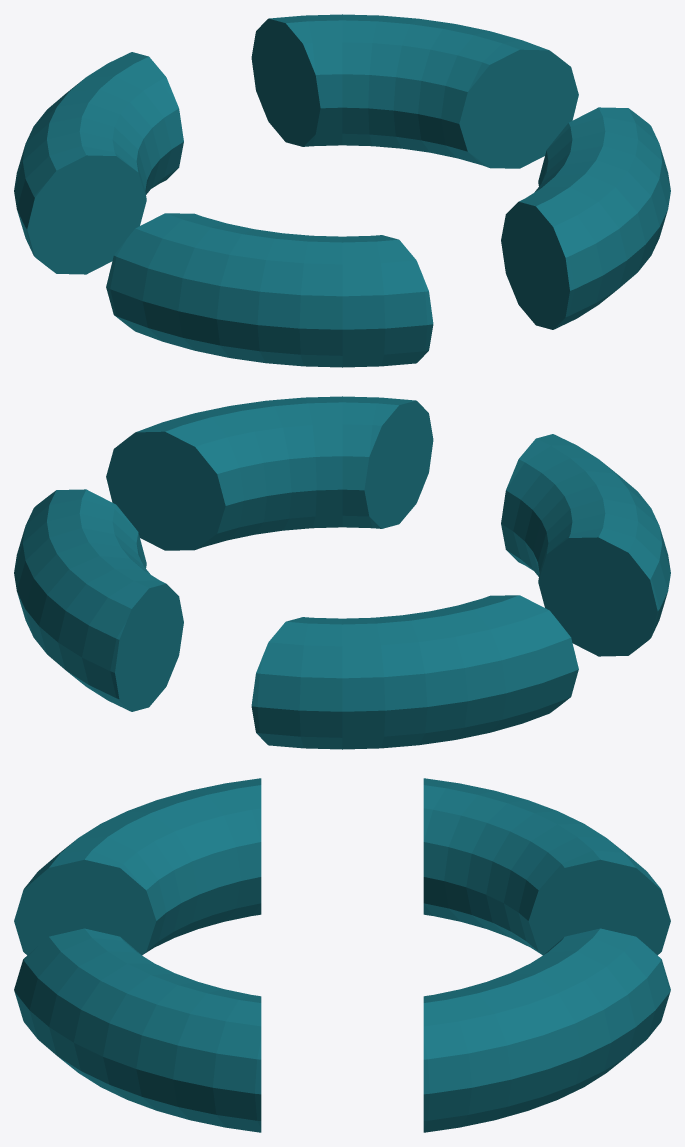
File: reticle_spin.glb
The picture shows the model from 3 angles, top to bottom: view 1: azimuth 30°, elevation 25°; view 2: azimuth 150°, elevation 25°; view 3: azimuth 270°, elevation 25°; orthographic projection. The views are drawn at different scales.
Parts seen in each view (by area): view 1: Torus.004; view 2: Torus.004; view 3: Torus.004.
Boxes of the visible parts, x1,y1,x2,y2 form: Torus.004: (14, 14, 670, 367); Torus.004: (14, 396, 670, 749); Torus.004: (14, 778, 670, 1132).
Bounding box in the file's own units: 0.4848 × 0.1 × 0.4848.
